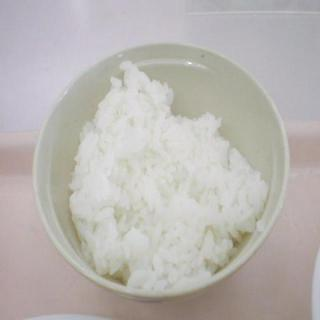Nasi: (68, 60, 271, 294)
